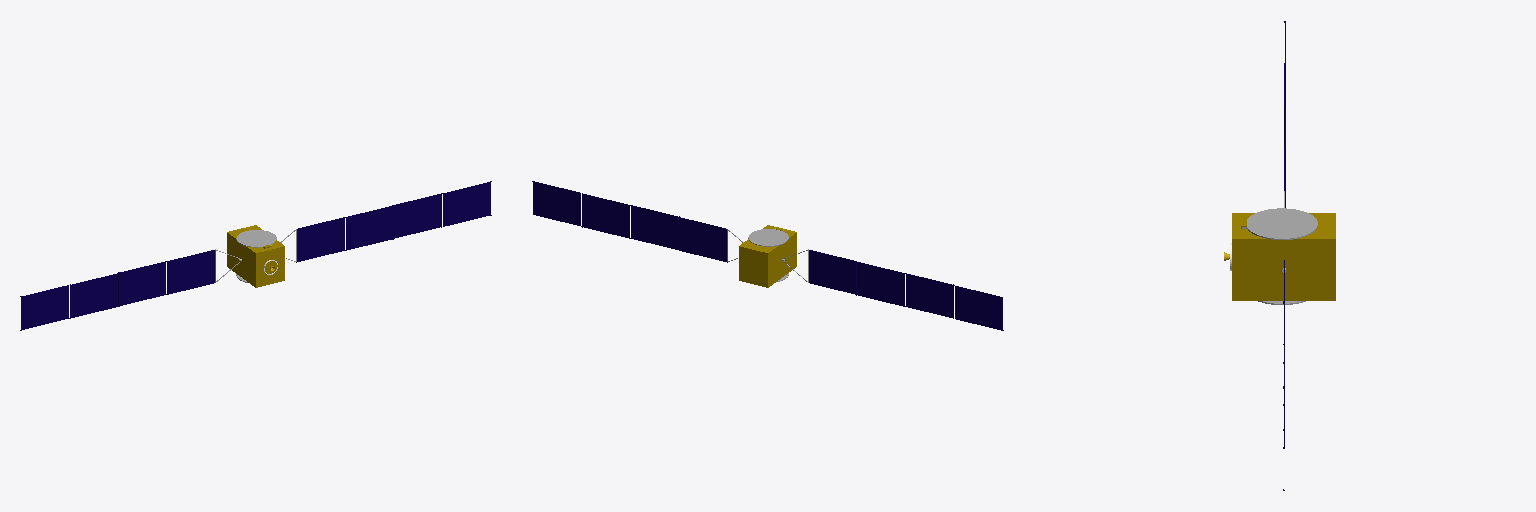
URDF robot description (xin_nuo_4):
<?xml version="1.0" encoding="utf-8"?>
<!-- This URDF was automatically created by SolidWorks to URDF Exporter! Originally created by [author] ([email redacted]) 
     Commit Version: 1.6.0-4-g7f85cfe  Build Version: 1.6.7995.38578
     For more information, please see http://wiki.ros.org/sw_urdf_exporter -->
<robot
  name="xin_nuo_4">
  <link
    name="base_link">
    <inertial>
      <origin
        xyz="1.63500956950103E-15 1.79842914118884 -4.39273821260757E-15"
        rpy="0 0 0" />
      <mass
        value="3572.17862833059" />
      <inertia
        ixx="5523.90920491209"
        ixy="-1.87279787855437E-13"
        ixz="0"
        iyy="2973.55182691481"
        iyz="3.54233269817698E-12"
        izz="5172.91209753096" />
    </inertial>
    <visual>
      <origin
        xyz="0 0 0"
        rpy="0 0 0" />
      <geometry>
        <mesh
          filename="package://xin_nuo_4/meshes/base_link.STL" />
      </geometry>
      <material
        name="base_color">
        <color
          rgba="0.67451 0.564706 0.027451 1" />
      </material>
    </visual>
    <collision>
      <origin
        xyz="0 0 0"
        rpy="0 0 0" />
      <geometry>
        <mesh
          filename="package://xin_nuo_4/meshes/base_link.STL" />
      </geometry>
    </collision>
  </link>
  <link
    name="tian_xian1">
    <inertial>
      <origin
        xyz="3.10862446895044E-15 1.32102955433489 -0.3"
        rpy="0 0 0" />
      <mass
        value="24.6143539276408" />
      <inertia
        ixx="19.2982971395518"
        ixy="-2.47629989368925E-14"
        ixz="-1.77635683940025E-15"
        iyy="9.59788040316597"
        iyz="2.5000514929076E-17"
        izz="9.7106748672165" />
    </inertial>
    <visual>
      <origin
        xyz="0 0 0"
        rpy="0 0 0" />
      <geometry>
        <mesh
          filename="package://xin_nuo_4/meshes/tian_xian1.STL" />
      </geometry>
      <material
        name="tianxian_color">
        <color
          rgba="0.701961 0.701961 0.701961 1" />
      </material>
    </visual>
    <collision>
      <origin
        xyz="0 0 0"
        rpy="0 0 0" />
      <geometry>
        <mesh
          filename="package://xin_nuo_4/meshes/tian_xian1.STL" />
      </geometry>
    </collision>
  </link>
  <joint
    name="joint_tian_xian1"
    type="revolute">
    <origin
      xyz="-0.3 0.4 -1.24"
      rpy="0 -1.5708 0" />
    <parent
      link="base_link" />
    <child
      link="tian_xian1" />
    <axis
      xyz="0 0 1" />
    <limit
      lower="-6.29"
      upper="6.29"
      effort="10000"
      velocity="10000" />
  </joint>
  <link
    name="tian_xian2">
    <inertial>
      <origin
        xyz="-8.88178419700125E-16 1.32102955433489 0.299999999999999"
        rpy="0 0 0" />
      <mass
        value="24.6143539276408" />
      <inertia
        ixx="19.2982971395518"
        ixy="6.21241189425657E-15"
        ixz="-4.44089209850063E-15"
        iyy="9.59788040316597"
        iyz="2.20791999699846E-16"
        izz="9.71067486721651" />
    </inertial>
    <visual>
      <origin
        xyz="0 0 0"
        rpy="0 0 0" />
      <geometry>
        <mesh
          filename="package://xin_nuo_4/meshes/tian_xian2.STL" />
      </geometry>
      <material
        name="tianxian_color">
        <color
          rgba="0.701961 0.701961 0.701961 1" />
      </material>
    </visual>
    <collision>
      <origin
        xyz="0 0 0"
        rpy="0 0 0" />
      <geometry>
        <mesh
          filename="package://xin_nuo_4/meshes/tian_xian2.STL" />
      </geometry>
    </collision>
  </link>
  <joint
    name="joint_tian_xian2"
    type="revolute">
    <origin
      xyz="0.3 0.4 1.24"
      rpy="0 -1.5708 0" />
    <parent
      link="base_link" />
    <child
      link="tian_xian2" />
    <axis
      xyz="0 0 1" />
    <limit
      lower="-6.29"
      upper="6.29"
      effort="10000"
      velocity="10000" />
  </joint>
  <link
    name="zhuan_zhou1">
    <inertial>
      <origin
        xyz="5.87733511858701E-09 1.5524088681218E-09 0.0541943118686843"
        rpy="0 0 0" />
      <mass
        value="0.0724314369507897" />
      <inertia
        ixx="0.00024562467356761"
        ixy="-6.22295570861744E-11"
        ixz="3.62415583383523E-11"
        iyy="0.000241882448707953"
        iyz="-1.59294704277724E-11"
        izz="0.000177147693159084" />
    </inertial>
    <visual>
      <origin
        xyz="0 0 0"
        rpy="0 0 0" />
      <geometry>
        <mesh
          filename="package://xin_nuo_4/meshes/zhuan_zhou1.STL" />
      </geometry>
      <material
        name="q">
        <color
          rgba="0.698039215686274 0.698039215686274 0.698039215686274 1" />
      </material>
    </visual>
    <collision>
      <origin
        xyz="0 0 0"
        rpy="0 0 0" />
      <geometry>
        <mesh
          filename="package://xin_nuo_4/meshes/zhuan_zhou1.STL" />
      </geometry>
    </collision>
  </link>
  <joint
    name="joint_zhuanzhou1"
    type="revolute">
    <origin
      xyz="-1.05 1.8 0"
      rpy="0 -1.5708 0" />
    <parent
      link="base_link" />
    <child
      link="zhuan_zhou1" />
    <axis
      xyz="0 0 -1" />
    <limit
      lower="-6.29"
      upper="6.29"
      effort="10000"
      velocity="10000" />
  </joint>
  <link
    name="lianjiegan1">
    <inertial>
      <origin
        xyz="-1.16039493270321 1.59644455433039E-08 -0.0300007147043297"
        rpy="0 0 0" />
      <mass
        value="0.265926031032753" />
      <inertia
        ixx="0.11527621082924"
        ixy="-3.82076707324128E-09"
        ixz="1.07051601500041E-07"
        iyy="0.208272054170889"
        iyz="9.21666483465507E-10"
        izz="0.0930635039944864" />
    </inertial>
    <visual>
      <origin
        xyz="0 0 0"
        rpy="0 0 0" />
      <geometry>
        <mesh
          filename="package://xin_nuo_4/meshes/lianjiegan1.STL" />
      </geometry>
      <material
        name="q">
        <color
          rgba="0.698039215686274 0.698039215686274 0.698039215686274 1" />
      </material>
    </visual>
    <collision>
      <origin
        xyz="0 0 0"
        rpy="0 0 0" />
      <geometry>
        <mesh
          filename="package://xin_nuo_4/meshes/lianjiegan1.STL" />
      </geometry>
    </collision>
  </link>
  <joint
    name="joint_lianjiegan1"
    type="revolute">
    <origin
      xyz="0.0300000000000219 0 0.0949999999999995"
      rpy="0 1.5707963267949 0" />
    <parent
      link="zhuan_zhou1" />
    <child
      link="lianjiegan1" />
    <axis
      xyz="0 0 1" />
    <limit
      lower="-6.29"
      upper="6.29"
      effort="10000"
      velocity="10000" />
  </joint>
  <link
    name="1fanban1">
    <inertial>
      <origin
        xyz="-1.74223879182712 2.82060278899987E-05 -1.14500000000002"
        rpy="0 0 0" />
      <mass
        value="5.85048235803155" />
      <inertia
        ixx="2.56678101098279"
        ixy="0.000282129677435218"
        ixz="-1.0769163338864E-14"
        iyy="8.22372211659584"
        iyz="-1.66805450922469E-16"
        izz="5.65756087252585" />
    </inertial>
    <visual>
      <origin
        xyz="0 0 0"
        rpy="0 0 0" />
      <geometry>
        <mesh
          filename="package://xin_nuo_4/meshes/1fanban1.STL" />
      </geometry>
      <material
        name="fanban_color">
        <color
          rgba="0.098039 0.039216 0.392157 1" />
      </material>
    </visual>
    <collision>
      <origin
        xyz="0 0 0"
        rpy="0 0 0" />
      <geometry>
        <mesh
          filename="package://xin_nuo_4/meshes/1fanban1.STL" />
      </geometry>
    </collision>
  </link>
  <joint
    name="joint_1fanban1"
    type="revolute">
    <origin
      xyz="-1.73205080756888 0 1.11500000000001"
      rpy="0 0 0" />
    <parent
      link="lianjiegan1" />
    <child
      link="1fanban1" />
    <axis
      xyz="0 0 -1" />
    <limit
      lower="-6.29"
      upper="6.29"
      effort="10000"
      velocity="10000" />
  </joint>
  <link
    name="1fanban2">
    <inertial>
      <origin
        xyz="-1.74223879182711 -2.82060278828933E-05 -1.17"
        rpy="0 0 0" />
      <mass
        value="5.85048235803157" />
      <inertia
        ixx="2.56678101098281"
        ixy="-0.000282129677417368"
        ixz="7.99360577730113E-15"
        iyy="8.22372211659588"
        iyz="6.04333344257838E-16"
        izz="5.65756087252587" />
    </inertial>
    <visual>
      <origin
        xyz="0 0 0"
        rpy="0 0 0" />
      <geometry>
        <mesh
          filename="package://xin_nuo_4/meshes/1fanban2.STL" />
      </geometry>
      <material
        name="fanban_color">
        <color
          rgba="0.098039 0.039216 0.392157 1" />
      </material>
    </visual>
    <collision>
      <origin
        xyz="0 0 0"
        rpy="0 0 0" />
      <geometry>
        <mesh
          filename="package://xin_nuo_4/meshes/1fanban2.STL" />
      </geometry>
    </collision>
  </link>
  <joint
    name="joint_1fanban2"
    type="revolute">
    <origin
      xyz="-3.48 0.0375000000000068 0.0249999999999766"
      rpy="0 0 0" />
    <parent
      link="1fanban1" />
    <child
      link="1fanban2" />
    <axis
      xyz="0 0 1" />
    <limit
      lower="-6.29"
      upper="6.29"
      effort="10000"
      velocity="10000" />
  </joint>
  <link
    name="1fanban3">
    <inertial>
      <origin
        xyz="1.74223879182711 2.82060278880003E-05 -1.12"
        rpy="0 0 0" />
      <mass
        value="5.85048235803157" />
      <inertia
        ixx="2.5667810109828"
        ixy="-0.000282129677435944"
        ixz="-1.36557432028894E-14"
        iyy="8.22372211659587"
        iyz="1.88160880153594E-16"
        izz="5.65756087252587" />
    </inertial>
    <visual>
      <origin
        xyz="0 0 0"
        rpy="0 0 0" />
      <geometry>
        <mesh
          filename="package://xin_nuo_4/meshes/1fanban3.STL" />
      </geometry>
      <material
        name="fanban_color">
        <color
          rgba="0.098039 0.039216 0.392157 1" />
      </material>
    </visual>
    <collision>
      <origin
        xyz="0 0 0"
        rpy="0 0 0" />
      <geometry>
        <mesh
          filename="package://xin_nuo_4/meshes/1fanban3.STL" />
      </geometry>
    </collision>
  </link>
  <joint
    name="joint_1fanban3"
    type="revolute">
    <origin
      xyz="-3.48 -0.0374999999999939 -2.29"
      rpy="3.14159265358979 0 3.14159265358979" />
    <parent
      link="1fanban2" />
    <child
      link="1fanban3" />
    <axis
      xyz="0 0 1" />
    <limit
      lower="-6.29"
      upper="6.29"
      effort="10000"
      velocity="10000" />
  </joint>
  <link
    name="1fanban4">
    <inertial>
      <origin
        xyz="-1.7422387918271 -2.82060278831153E-05 -1.12"
        rpy="0 0 0" />
      <mass
        value="5.85048235803156" />
      <inertia
        ixx="2.5667810109828"
        ixy="-0.00028212967741823"
        ixz="1.17683640610267E-14"
        iyy="8.22372211659584"
        iyz="-1.28772571324304E-16"
        izz="5.65756087252586" />
    </inertial>
    <visual>
      <origin
        xyz="0 0 0"
        rpy="0 0 0" />
      <geometry>
        <mesh
          filename="package://xin_nuo_4/meshes/1fanban4.STL" />
      </geometry>
      <material
        name="fanban_color">
        <color
          rgba="0.098039 0.039216 0.392157 1" />
      </material>
    </visual>
    <collision>
      <origin
        xyz="0 0 0"
        rpy="0 0 0" />
      <geometry>
        <mesh
          filename="package://xin_nuo_4/meshes/1fanban4.STL" />
      </geometry>
    </collision>
  </link>
  <joint
    name="joint_1fanban4"
    type="revolute">
    <origin
      xyz="3.48 0.037500000000005 -2.24"
      rpy="3.14159265358979 0 -3.14159265358979" />
    <parent
      link="1fanban3" />
    <child
      link="1fanban4" />
    <axis
      xyz="0 0 1" />
    <limit
      lower="-6.29"
      upper="6.29"
      effort="10000"
      velocity="10000" />
  </joint>
  <link
    name="zhuanzhou_2">
    <inertial>
      <origin
        xyz="5.8773346744978E-09 1.55240953425562E-09 0.0541943118686858"
        rpy="0 0 0" />
      <mass
        value="0.0724314369507896" />
      <inertia
        ixx="0.00024562467356761"
        ixy="-6.22295571017868E-11"
        ixz="3.62415584806539E-11"
        iyy="0.000241882448707952"
        iyz="-1.5929470513993E-11"
        izz="0.000177147693159084" />
    </inertial>
    <visual>
      <origin
        xyz="0 0 0"
        rpy="0 0 0" />
      <geometry>
        <mesh
          filename="package://xin_nuo_4/meshes/zhuanzhou_2.STL" />
      </geometry>
      <material
        name="q">
        <color
          rgba="0.698039215686274 0.698039215686274 0.698039215686274 1" />
      </material>
    </visual>
    <collision>
      <origin
        xyz="0 0 0"
        rpy="0 0 0" />
      <geometry>
        <mesh
          filename="package://xin_nuo_4/meshes/zhuanzhou_2.STL" />
      </geometry>
    </collision>
  </link>
  <joint
    name="joint_zhuanzhou_2"
    type="revolute">
    <origin
      xyz="1.05 1.8 0"
      rpy="0 1.5708 0" />
    <parent
      link="base_link" />
    <child
      link="zhuanzhou_2" />
    <axis
      xyz="0 0 -1" />
    <limit
      lower="-6.29"
      upper="6.29"
      effort="10000"
      velocity="10000" />
  </joint>
  <link
    name="lianjiegan2">
    <inertial>
      <origin
        xyz="1.16039493270321 1.59644431008132E-08 -0.0299992852956437"
        rpy="0 0 0" />
      <mass
        value="0.265926031032765" />
      <inertia
        ixx="0.115276210829243"
        ixy="3.8207673979026E-09"
        ixz="1.07051601520858E-07"
        iyy="0.208272054170895"
        iyz="-9.21666583421341E-10"
        izz="0.0930635039944895" />
    </inertial>
    <visual>
      <origin
        xyz="0 0 0"
        rpy="0 0 0" />
      <geometry>
        <mesh
          filename="package://xin_nuo_4/meshes/lianjiegan2.STL" />
      </geometry>
      <material
        name="q">
        <color
          rgba="0.698039215686274 0.698039215686274 0.698039215686274 1" />
      </material>
    </visual>
    <collision>
      <origin
        xyz="0 0 0"
        rpy="0 0 0" />
      <geometry>
        <mesh
          filename="package://xin_nuo_4/meshes/lianjiegan2.STL" />
      </geometry>
    </collision>
  </link>
  <joint
    name="joint_lianjiegan2"
    type="revolute">
    <origin
      xyz="-0.0299999999999936 0 0.0950000000000022"
      rpy="3.14159265358979 -1.5707963267949 0" />
    <parent
      link="zhuanzhou_2" />
    <child
      link="lianjiegan2" />
    <axis
      xyz="0 0 1" />
    <limit
      lower="-6.29"
      upper="6.29"
      effort="10000"
      velocity="10000" />
  </joint>
  <link
    name="2fanban1">
    <inertial>
      <origin
        xyz="1.74223879182711 2.82060278837815E-05 -1.145"
        rpy="0 0 0" />
      <mass
        value="5.85048235803155" />
      <inertia
        ixx="2.56678101098279"
        ixy="-0.000282129677418832"
        ixz="-1.36557432028894E-14"
        iyy="8.22372211659584"
        iyz="1.87636509332103E-16"
        izz="5.65756087252586" />
    </inertial>
    <visual>
      <origin
        xyz="0 0 0"
        rpy="0 0 0" />
      <geometry>
        <mesh
          filename="package://xin_nuo_4/meshes/2fanban1.STL" />
      </geometry>
      <material
        name="fanban_color">
        <color
          rgba="0.098039 0.039216 0.392157 1" />
      </material>
    </visual>
    <collision>
      <origin
        xyz="0 0 0"
        rpy="0 0 0" />
      <geometry>
        <mesh
          filename="package://xin_nuo_4/meshes/2fanban1.STL" />
      </geometry>
    </collision>
  </link>
  <joint
    name="joint_2fanban1"
    type="revolute">
    <origin
      xyz="1.73205080756888 0 1.11500000000001"
      rpy="0 0 0" />
    <parent
      link="lianjiegan2" />
    <child
      link="2fanban1" />
    <axis
      xyz="0 0 -1" />
    <limit
      lower="-6.29"
      upper="6.29"
      effort="10000"
      velocity="10000" />
  </joint>
  <link
    name="2fanban2">
    <inertial>
      <origin
        xyz="-1.74223879182711 -2.82060278860019E-05 -1.12"
        rpy="0 0 0" />
      <mass
        value="5.85048235803158" />
      <inertia
        ixx="2.56678101098281"
        ixy="-0.000282129677431902"
        ixz="1.4432899320127E-14"
        iyy="8.22372211659589"
        iyz="-1.53790961139966E-16"
        izz="5.65756087252588" />
    </inertial>
    <visual>
      <origin
        xyz="0 0 0"
        rpy="0 0 0" />
      <geometry>
        <mesh
          filename="package://xin_nuo_4/meshes/2fanban2.STL" />
      </geometry>
      <material
        name="fanban_color">
        <color
          rgba="0.098039 0.039216 0.392157 1" />
      </material>
    </visual>
    <collision>
      <origin
        xyz="0 0 0"
        rpy="0 0 0" />
      <geometry>
        <mesh
          filename="package://xin_nuo_4/meshes/2fanban2.STL" />
      </geometry>
    </collision>
  </link>
  <joint
    name="joint_2fanban2"
    type="revolute">
    <origin
      xyz="3.48 0.0374999999999959 -2.265"
      rpy="3.14159265358979 0 -3.14159265358979" />
    <parent
      link="2fanban1" />
    <child
      link="2fanban2" />
    <axis
      xyz="0 0 1" />
    <limit
      lower="-6.29"
      upper="6.29"
      effort="10000"
      velocity="10000" />
  </joint>
  <link
    name="2fanban3">
    <inertial>
      <origin
        xyz="-1.7422 2.8206E-05 -1.12"
        rpy="0 0 0" />
      <mass
        value="5.8505" />
      <inertia
        ixx="2.5668"
        ixy="0.00028213"
        ixz="-7.8826E-15"
        iyy="8.2237"
        iyz="-3.227E-17"
        izz="5.6576" />
    </inertial>
    <visual>
      <origin
        xyz="0 0 0"
        rpy="0 0 0" />
      <geometry>
        <mesh
          filename="package://xin_nuo_4/meshes/2fanban3.STL" />
      </geometry>
      <material
        name="fanban_color">
        <color
          rgba="0.098039 0.039216 0.392157 1" />
      </material>
    </visual>
    <collision>
      <origin
        xyz="0 0 0"
        rpy="0 0 0" />
      <geometry>
        <mesh
          filename="package://xin_nuo_4/meshes/2fanban3.STL" />
      </geometry>
    </collision>
  </link>
  <joint
    name="joint_2fanban3"
    type="revolute">
    <origin
      xyz="-3.48 -0.0375000000000021 0"
      rpy="0 0 0" />
    <parent
      link="2fanban2" />
    <child
      link="2fanban3" />
    <axis
      xyz="0 0 1" />
    <limit
      lower="-6.29"
      upper="6.29"
      effort="10000"
      velocity="10000" />
  </joint>
  <link
    name="2fanban4">
    <inertial>
      <origin
        xyz="1.74223879182711 -2.82060278880003E-05 -1.12"
        rpy="0 0 0" />
      <mass
        value="5.85048235803157" />
      <inertia
        ixx="2.56678101098281"
        ixy="0.000282129677433444"
        ixz="1.26565424807268E-14"
        iyy="8.22372211659588"
        iyz="1.49980812628965E-16"
        izz="5.65756087252587" />
    </inertial>
    <visual>
      <origin
        xyz="0 0 0"
        rpy="0 0 0" />
      <geometry>
        <mesh
          filename="package://xin_nuo_4/meshes/2fanban4.STL" />
      </geometry>
      <material
        name="fanban_color">
        <color
          rgba="0.098039 0.039216 0.392157 1" />
      </material>
    </visual>
    <collision>
      <origin
        xyz="0 0 0"
        rpy="0 0 0" />
      <geometry>
        <mesh
          filename="package://xin_nuo_4/meshes/2fanban4.STL" />
      </geometry>
    </collision>
  </link>
  <joint
    name="joint_2fanban4"
    type="revolute">
    <origin
      xyz="-3.48 0.0374999999999959 -2.24"
      rpy="3.14159265358979 0 -3.14159265358979" />
    <parent
      link="2fanban3" />
    <child
      link="2fanban4" />
    <axis
      xyz="0 0 1" />
    <limit
      lower="-6.29"
      upper="6.29"
      effort="10000"
      velocity="10000" />
  </joint>
  <link
    name="wei_pen_guan">
    <inertial>
      <origin
        xyz="-2.92828918522306E-16 -3.06453144872665E-17 -0.163004078996314"
        rpy="0 0 0" />
      <mass
        value="1.6357458859783" />
      <inertia
        ixx="0.0222430877220274"
        ixy="-1.73472347597681E-18"
        ixz="-6.91527998091055E-18"
        iyy="0.0222430877220275"
        iyz="6.63442056349367E-19"
        izz="0.0205306390827465" />
    </inertial>
    <visual>
      <origin
        xyz="0 0 0"
        rpy="0 0 0" />
      <geometry>
        <mesh
          filename="package://xin_nuo_4/meshes/wei_pen_guan.STL" />
      </geometry>
      <material
        name="weipenguan_color">
        <color
          rgba="0.811765 0.678431 0.145098 1" />
      </material>
    </visual>
    <collision>
      <origin
        xyz="0 0 0"
        rpy="0 0 0" />
      <geometry>
        <mesh
          filename="package://xin_nuo_4/meshes/wei_pen_guan.STL" />
      </geometry>
    </collision>
  </link>
  <joint
    name="joint_wei_pen_guan"
    type="fixed">
    <origin
      xyz="0 0 0"
      rpy="1.5708 0 3.1416" />
    <parent
      link="base_link" />
    <child
      link="wei_pen_guan" />
    <axis
      xyz="0 0 0" />
  </joint>
  <link
    name="dui_jie_huan">
    <inertial>
      <origin
        xyz="0 0 0"
        rpy="0 0 0" />
      <mass
        value="0" />
      <inertia
        ixx="0"
        ixy="0"
        ixz="0"
        iyy="0"
        iyz="0"
        izz="0" />
    </inertial>
    <visual>
      <origin
        xyz="0 0 0"
        rpy="0 0 0" />
      <geometry>
        <mesh
          filename="package://xin_nuo_4/meshes/dui_jie_huan.STL" />
      </geometry>
      <material
        name="duijiehuan_color">
        <color
          rgba="1 1 1 1" />
      </material>
    </visual>
    <collision>
      <origin
        xyz="0 0 0"
        rpy="0 0 0" />
      <geometry>
        <mesh
          filename="package://xin_nuo_4/meshes/dui_jie_huan.STL" />
      </geometry>
    </collision>
  </link>
  <joint
    name="joint_dui_jie_huan"
    type="fixed">
    <origin
      xyz="0 0 0"
      rpy="-1.5707963267949 -1.5707963267949 0" />
    <parent
      link="base_link" />
    <child
      link="dui_jie_huan" />
    <axis
      xyz="0 0 0" />
  </joint>
</robot>

--- Render facts (derived) ---
3 views of the same robot in one strip: view 1: azimuth 30°, elevation 25°; view 2: azimuth 150°, elevation 25°; view 3: azimuth 270°, elevation 25° (orthographic).
Model xin_nuo_4 with 17 links and 16 joints (14 revolute, 2 fixed), rooted at base_link, posed every joint at zero.
Links seen in each view (by area): view 1: base_link, 1fanban4, 1fanban2, 2fanban2, 2fanban4, 1fanban3, 2fanban1, 2fanban3, 1fanban1, tian_xian2; view 2: base_link, 1fanban3, 2fanban3, 2fanban1, 1fanban4, 2fanban4, 1fanban1, 1fanban2, 2fanban2, tian_xian2; view 3: base_link, tian_xian2.
Link boxes in pixels (x1,y1,x2,y2): base_link: (227,225,284,287); 1fanban4: (20,285,69,330); 1fanban2: (118,261,166,306); 2fanban2: (345,205,393,250); 2fanban4: (443,181,491,226); 1fanban3: (70,273,118,318); 2fanban1: (296,217,345,262); 2fanban3: (394,193,442,238); 1fanban1: (167,250,214,294); tian_xian2: (236,230,276,247); base_link: (739,225,796,287); 1fanban3: (905,273,953,318); 2fanban3: (582,193,630,238); 2fanban1: (679,216,727,262); 1fanban4: (954,285,1003,330); 2fanban4: (532,181,581,226); 1fanban1: (809,250,856,295); 1fanban2: (857,262,904,306); 2fanban2: (631,205,678,249); tian_xian2: (748,228,788,246); base_link: (1232,213,1335,300); tian_xian2: (1242,208,1317,239).
Bounding box of the posed robot: 33.62 × 3.89 × 2.56 m (x, y, z).
Meshes: 17 distinct files referenced, 17 mesh visuals loaded (17 binary STL).
